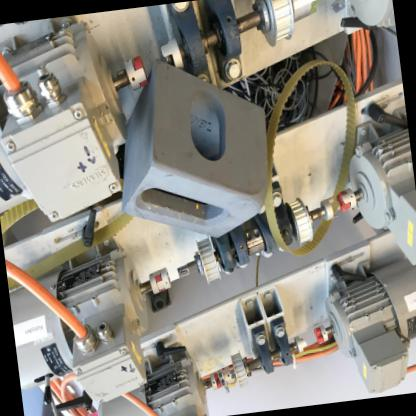CornerCasting: (99, 39, 282, 253)
